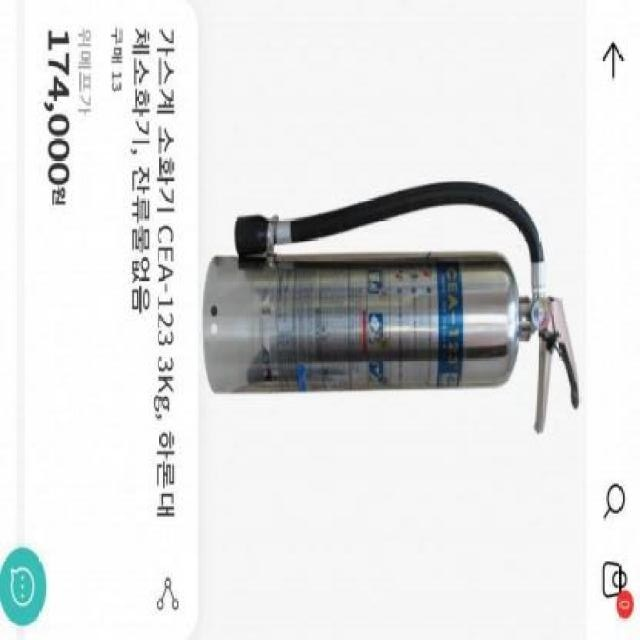fire extinguisher: (202, 179, 583, 435)
